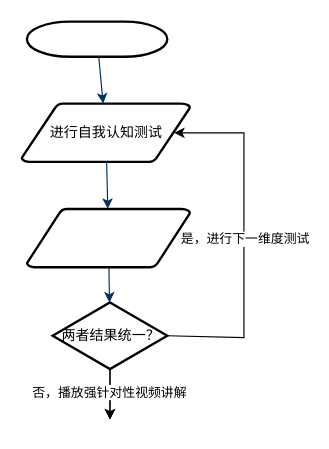
Some shapes in this 329 by 449 pixel diagram are drawn without their labels. The shapes that lost their labels are listed below. From the top down, each one's centre as x and y in pixels, then its label:
(96,38): 简介
(108,237): 进行AI情景测试
